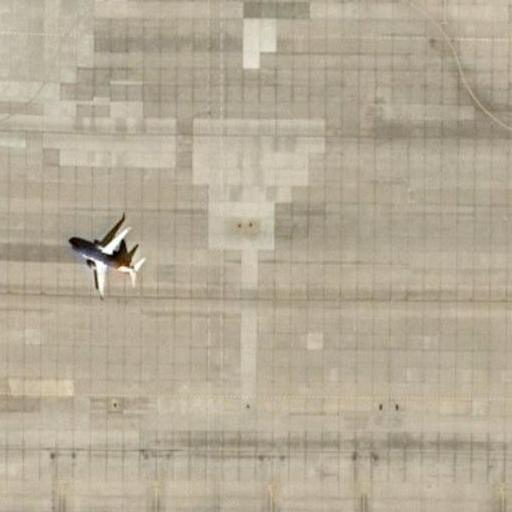Aircraft: (64, 215, 149, 297)
